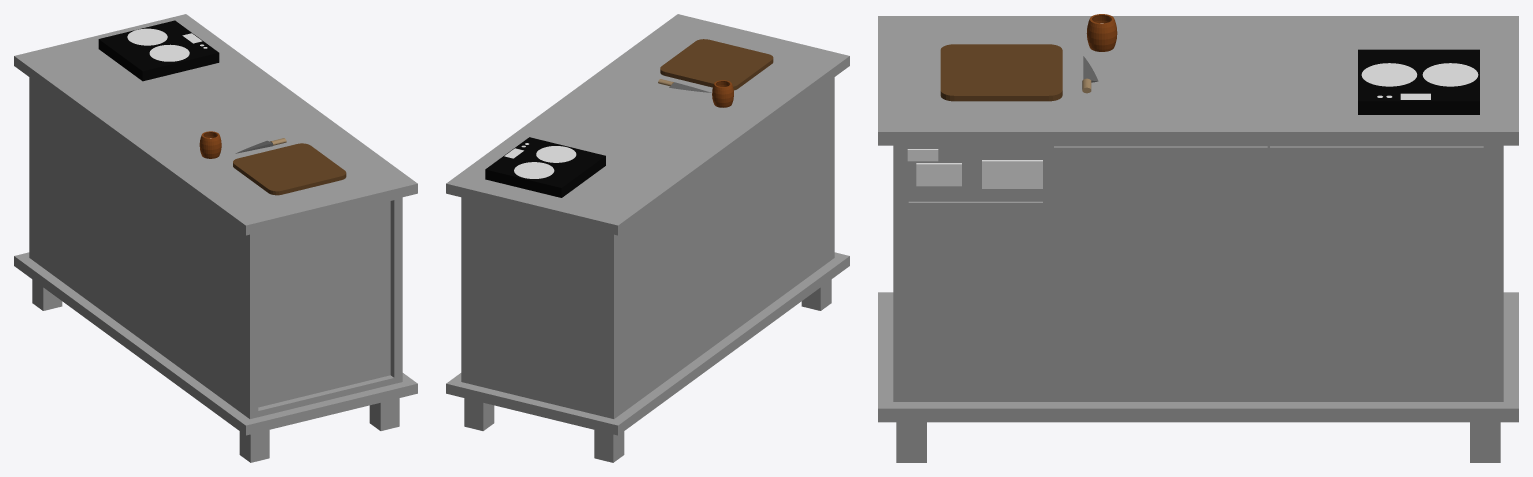
File: 한식조리대.glb
3 renders of one model, left to right at view 1: azimuth 30°, elevation 25°; view 2: azimuth 150°, elevation 25°; view 3: azimuth 270°, elevation 25°, orthographic. The views are drawn at different scales.
Visible parts, largest first — view 1: 조리대, 전기레인지, 나무도마, 소금항아리; view 2: 조리대, 전기레인지, 나무도마, 소금항아리; view 3: 조리대, 전기레인지, 나무도마, 소금항아리.
Part boxes in pixels (<box>): 조리대: <box>14,14,417,462</box>; 전기레인지: <box>98,20,219,81</box>; 나무도마: <box>233,143,346,195</box>; 소금항아리: <box>199,131,221,158</box>; 조리대: <box>446,14,849,462</box>; 전기레인지: <box>485,137,605,197</box>; 나무도마: <box>660,39,773,90</box>; 소금항아리: <box>712,80,733,107</box>; 조리대: <box>878,16,1518,462</box>; 전기레인지: <box>1358,49,1479,114</box>; 나무도마: <box>940,44,1062,101</box>; 소금항아리: <box>1086,14,1117,51</box>.
Size of the model in its own units: 9 by 13.25 by 21.
